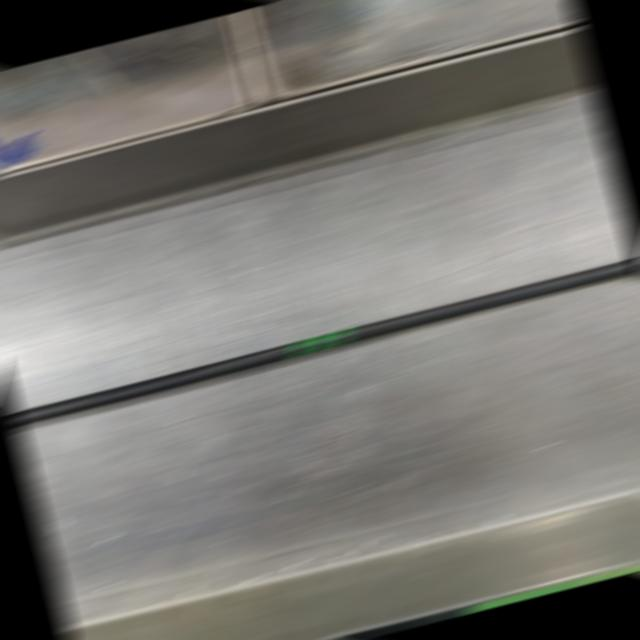green: (290, 329, 349, 355)
